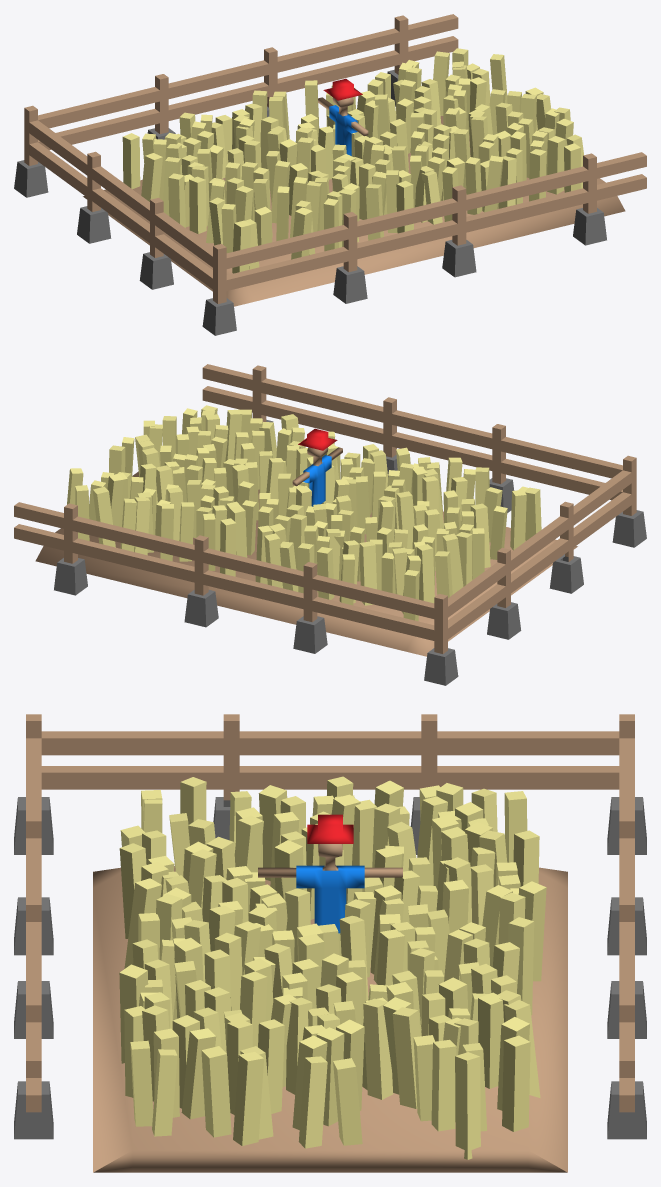
Rendered from Farm Cap Newer.fbx.
3 views of the same model, one above another, from view 1: azimuth 30°, elevation 25°; view 2: azimuth 150°, elevation 25°; view 3: azimuth 270°, elevation 25° (orthographic). The views are drawn at different scales.
Parts seen in each view (by area): view 1: Farm Cap Newer; view 2: Farm Cap Newer; view 3: Farm Cap Newer.
Boxes of the visible parts, x1=… form: Farm Cap Newer: x1=14, y1=14, x2=646, y2=335; Farm Cap Newer: x1=14, y1=364, x2=646, y2=685; Farm Cap Newer: x1=14, y1=714, x2=646, y2=1172.
Bounding box in the file's own units: 0.8377 × 0.2255 × 0.6667.
